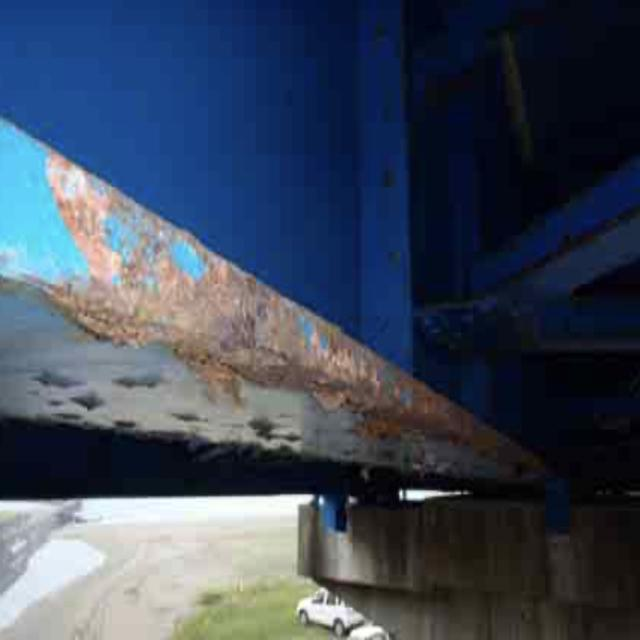corrosion: (46, 149, 506, 474)
